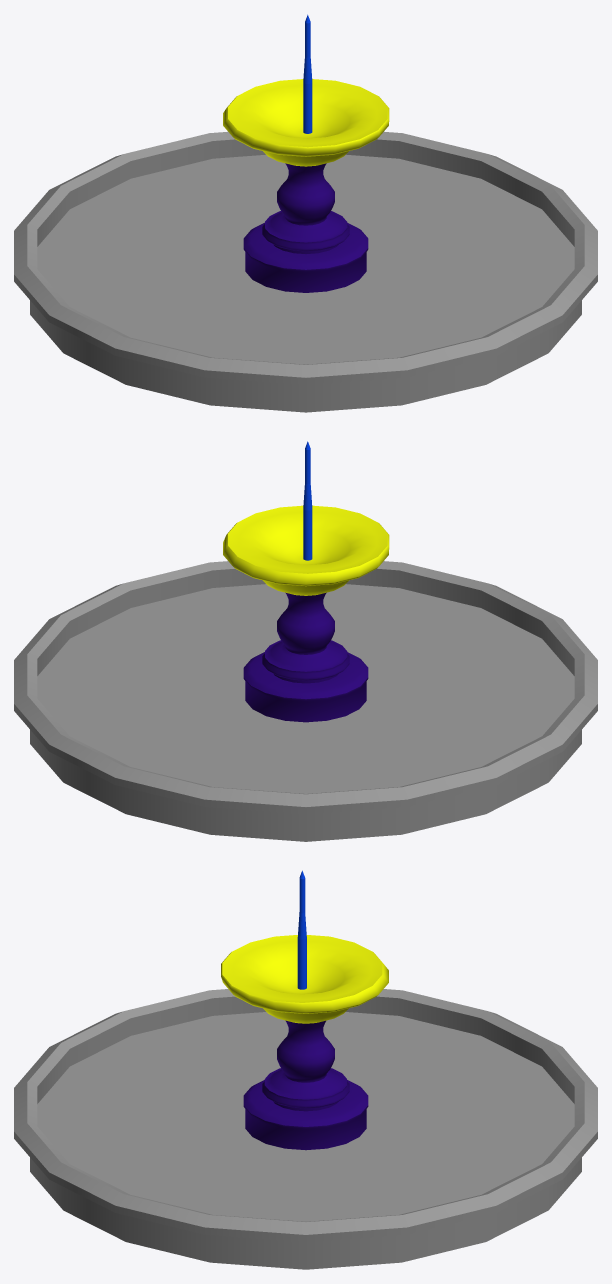
File: ayy.FBX
3 renders of one model, top to bottom at view 1: azimuth 30°, elevation 25°; view 2: azimuth 150°, elevation 25°; view 3: azimuth 270°, elevation 25°, orthographic.
Parts seen in each view (by area): view 1: Cylinder001, ays, Ayy, Object001; view 2: Cylinder001, Ayy, ays, Object001; view 3: Cylinder001, ays, Ayy, Object001.
Part boxes in pixels (x1,y1,x2,y2): Cylinder001: (14,131,597,412); ays: (243,163,368,292); Ayy: (223,79,389,166); Object001: (303,14,312,133); Cylinder001: (14,561,597,841); Ayy: (223,505,389,595); ays: (243,592,368,722); Object001: (303,441,312,560); Cylinder001: (14,989,597,1269); ays: (243,1020,368,1150); Ayy: (221,935,388,1023); Object001: (297,870,306,989).
Bounding box in the file's own units: 8.02 × 4.2 × 7.9.
